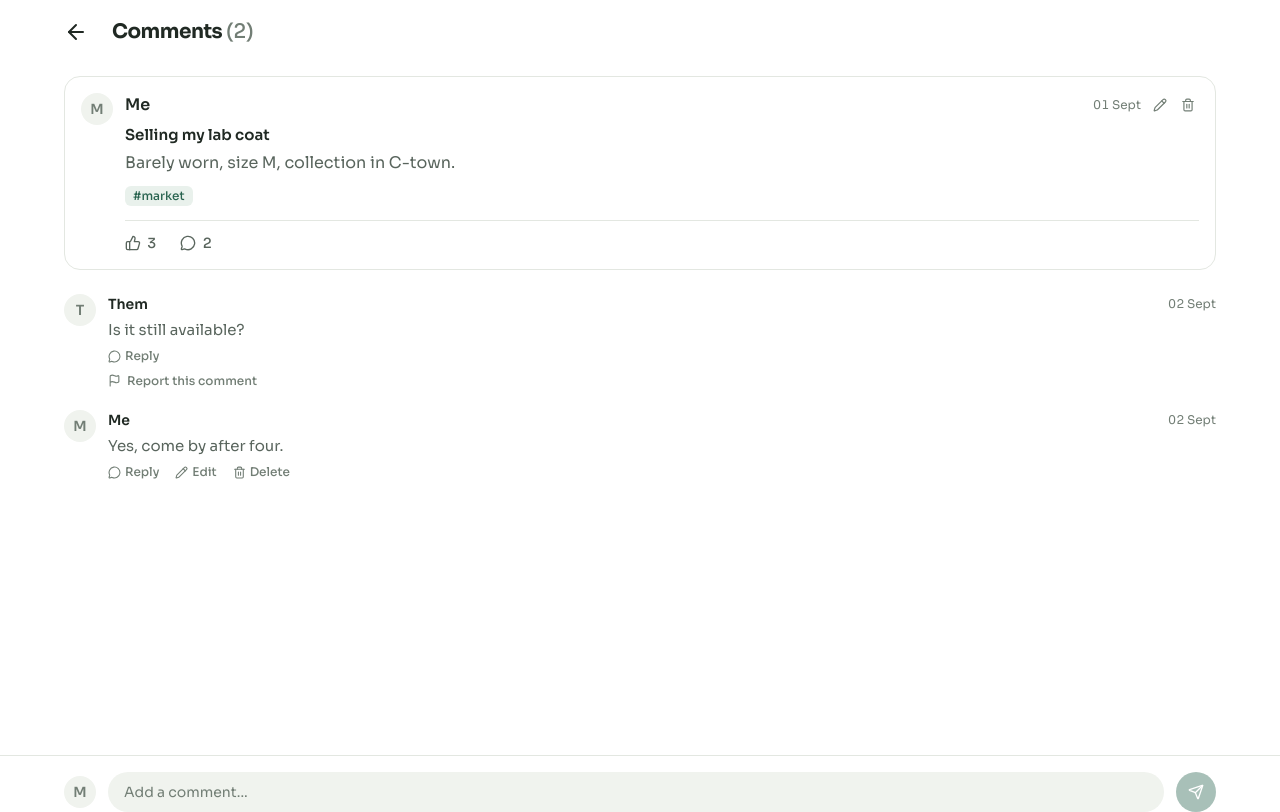
it: PostComments › explains a rejected edit rather than blaming the connection
Click the button with aria-label "Edit your comment" at (196, 472), box [175,464,217,480]
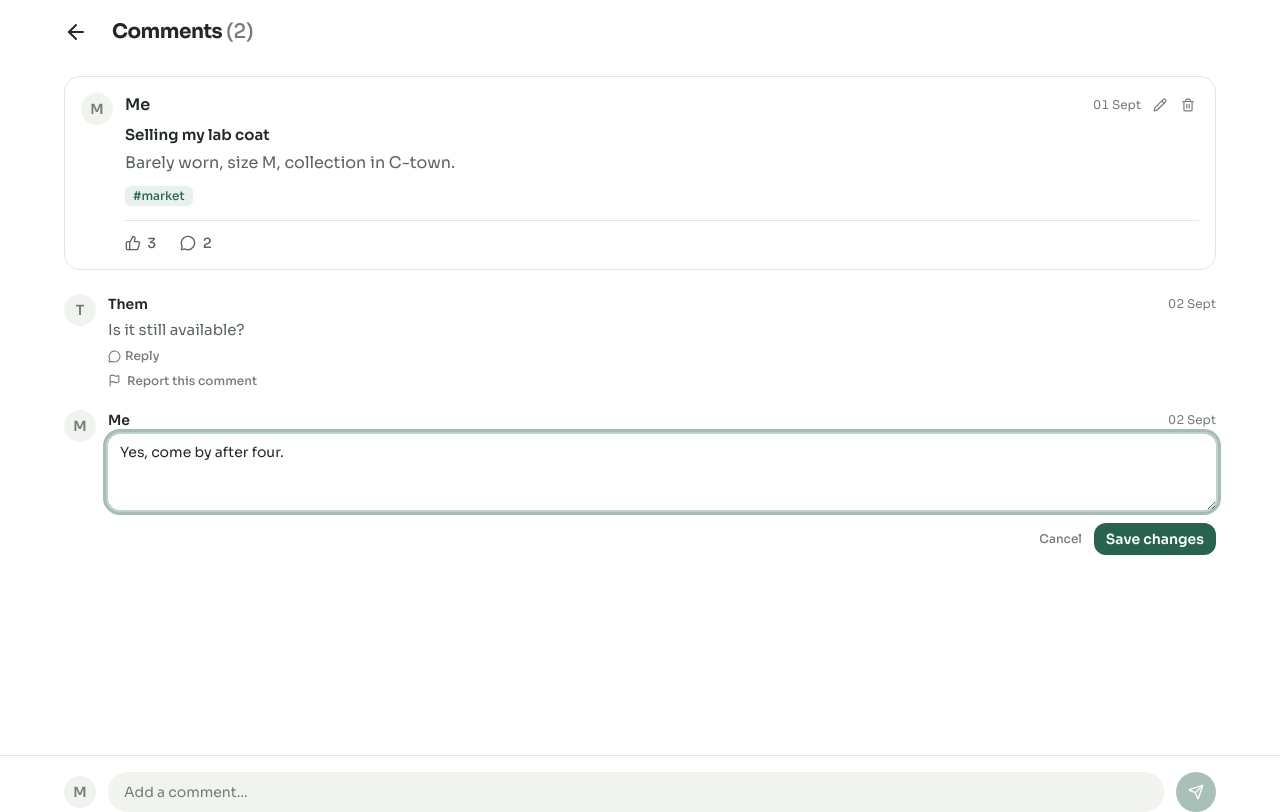
Replace the text in the text box named "Edit your comment" with "Updated anyway." at (662, 472), box [108,434,1216,510]
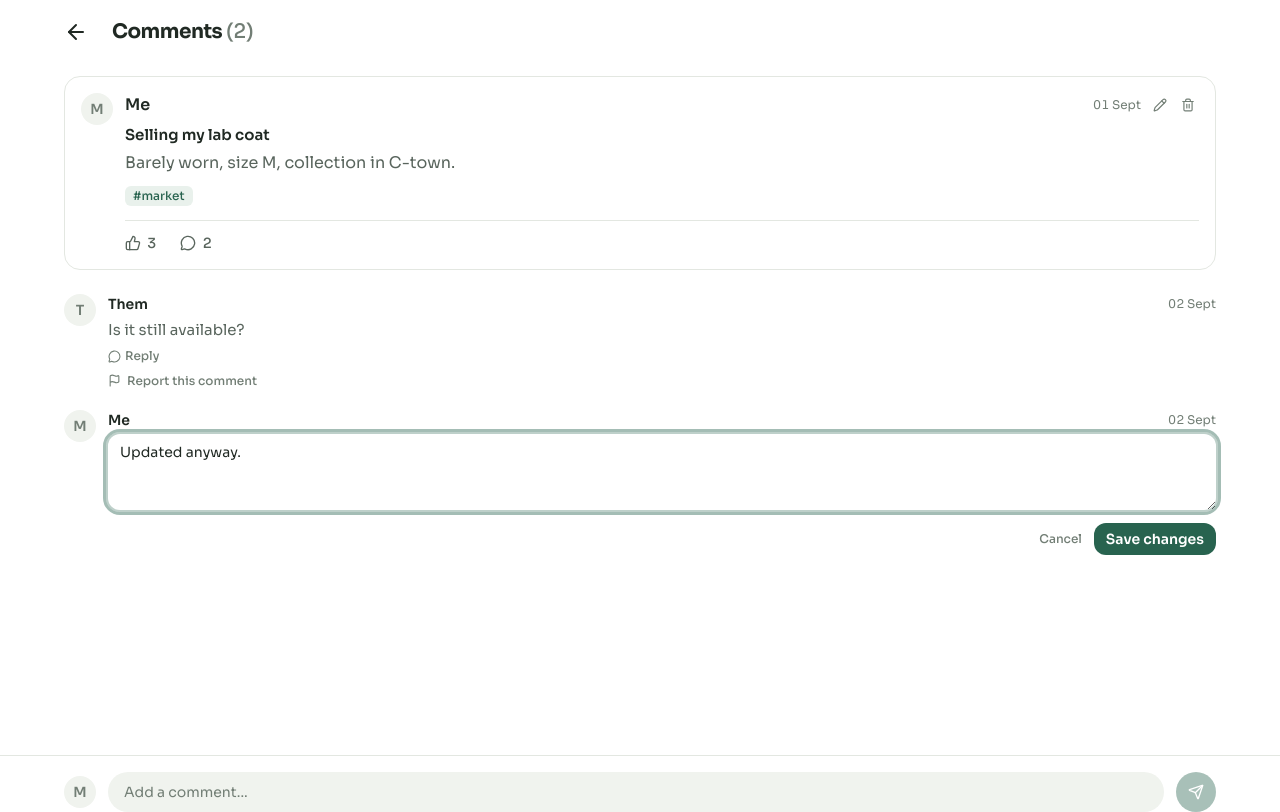
Click the button "Save changes" at (1155, 539), box [1094,523,1216,555]
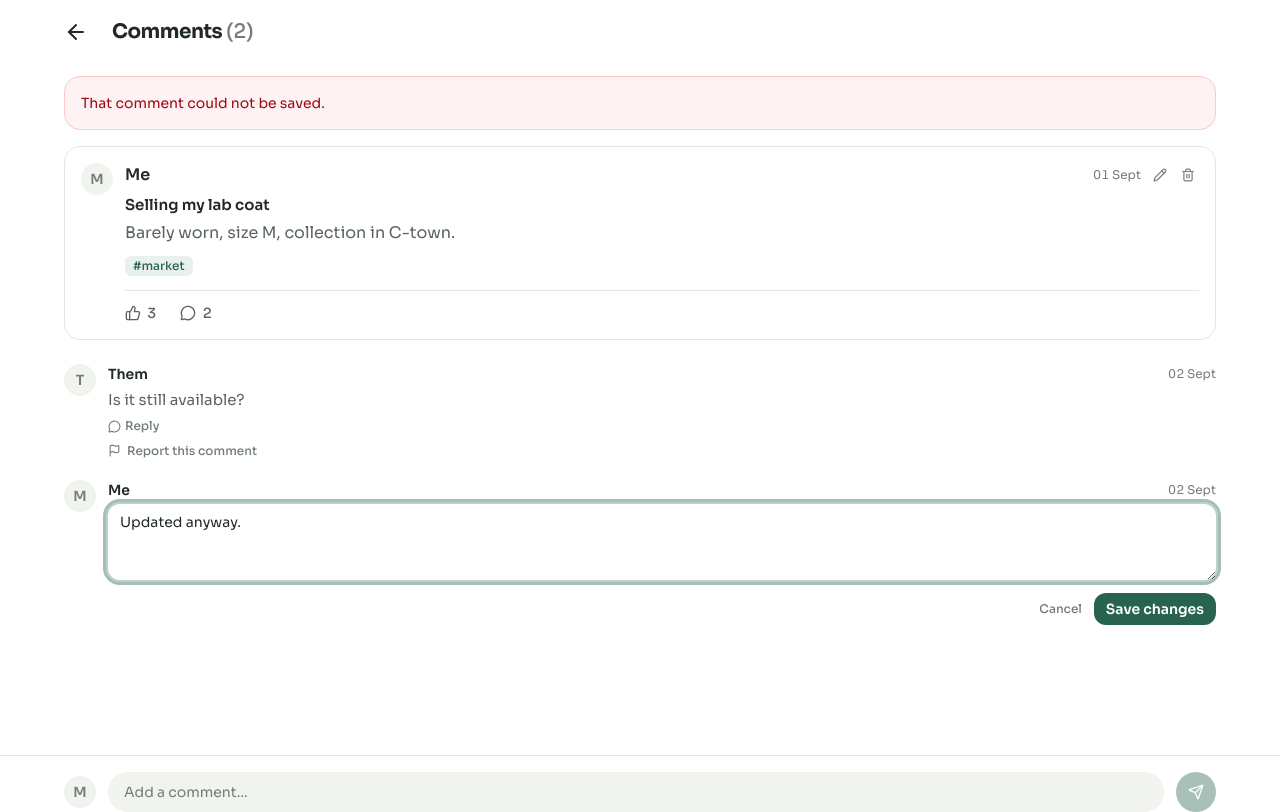
Result: the message reads "That comment could not be saved." at [81,94,325,112]
